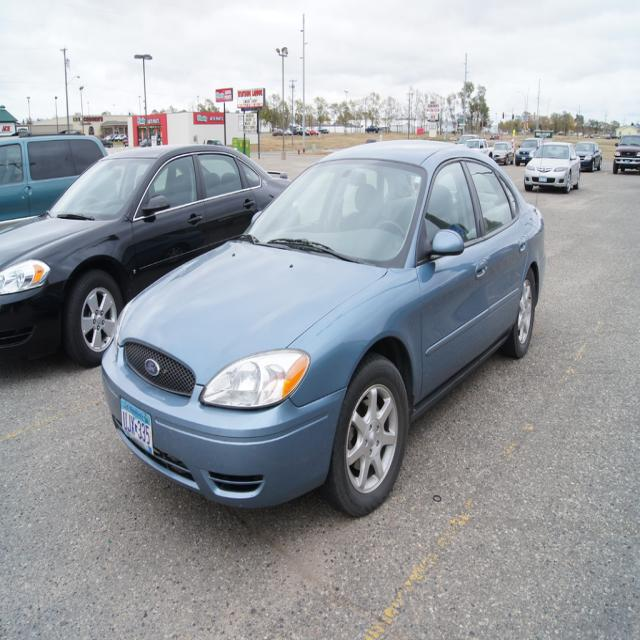car: (100, 135, 546, 520)
